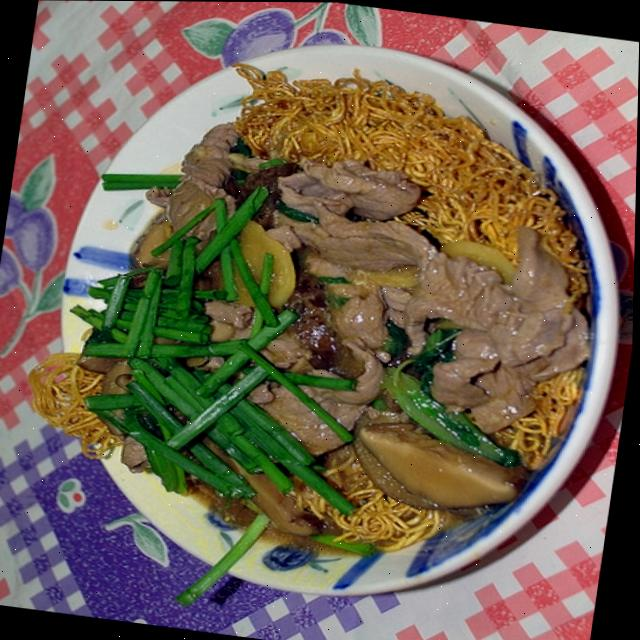面条主食: (4, 21, 640, 620)
